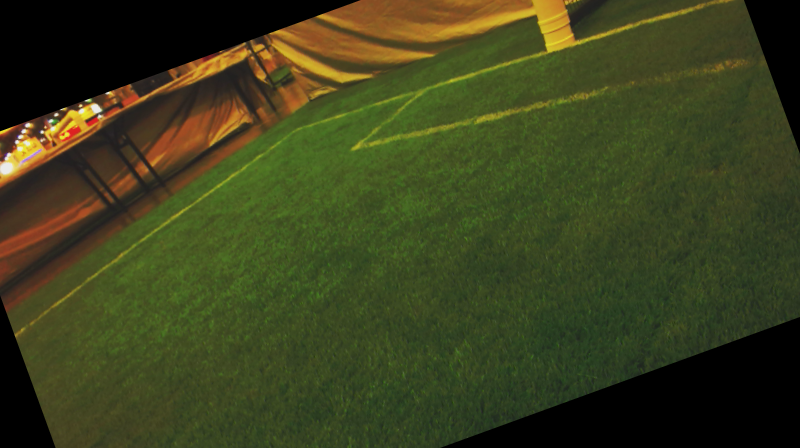post: (522, 9, 592, 59)
